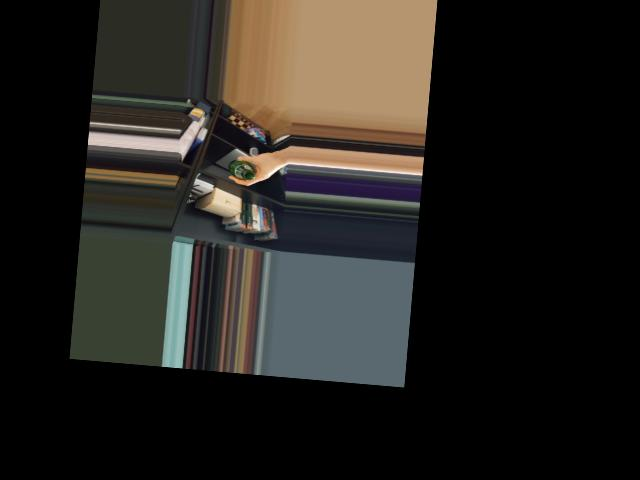beer: (227, 158, 257, 180)
